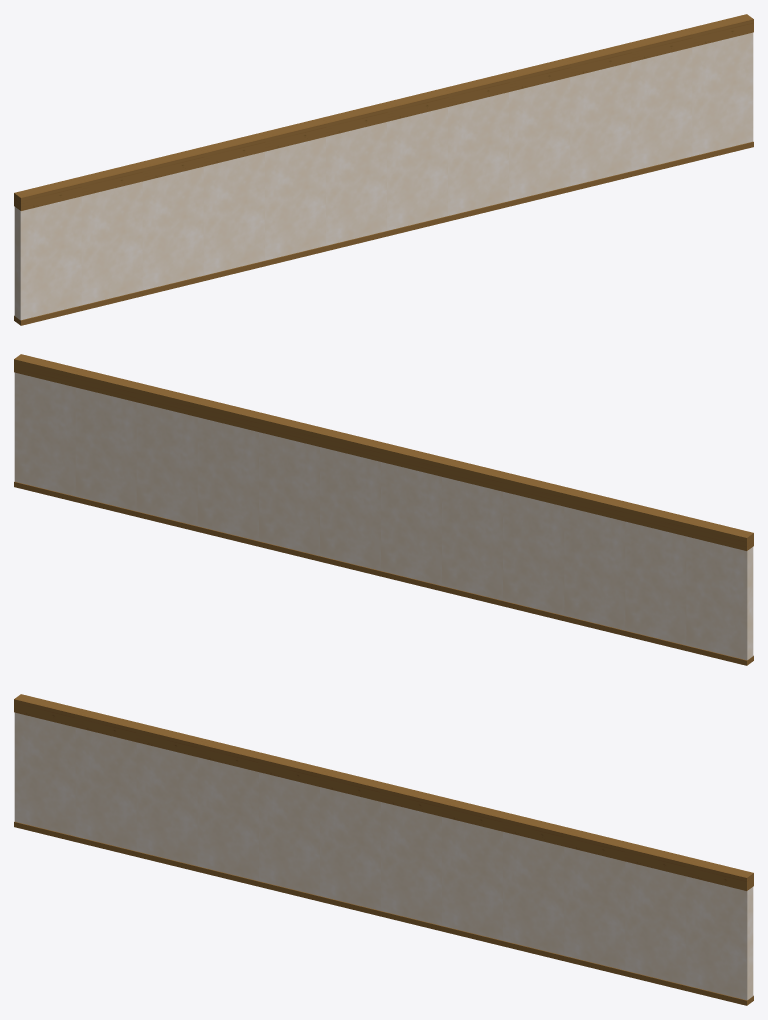
File: wall_12.fbx
3 renders of one model, top to bottom at view 1: azimuth 30°, elevation 25°; view 2: azimuth 150°, elevation 25°; view 3: azimuth 330°, elevation 25°, orthographic.
Parts seen in each view (by area): view 1: wall12; view 2: wall12; view 3: wall12.
Part boxes in pixels (bbox=[...]): wall12: bbox=[14, 14, 753, 325]; wall12: bbox=[14, 354, 753, 665]; wall12: bbox=[14, 694, 753, 1005].
Bounding box in the file's own units: 1200 × 200 × 20.
